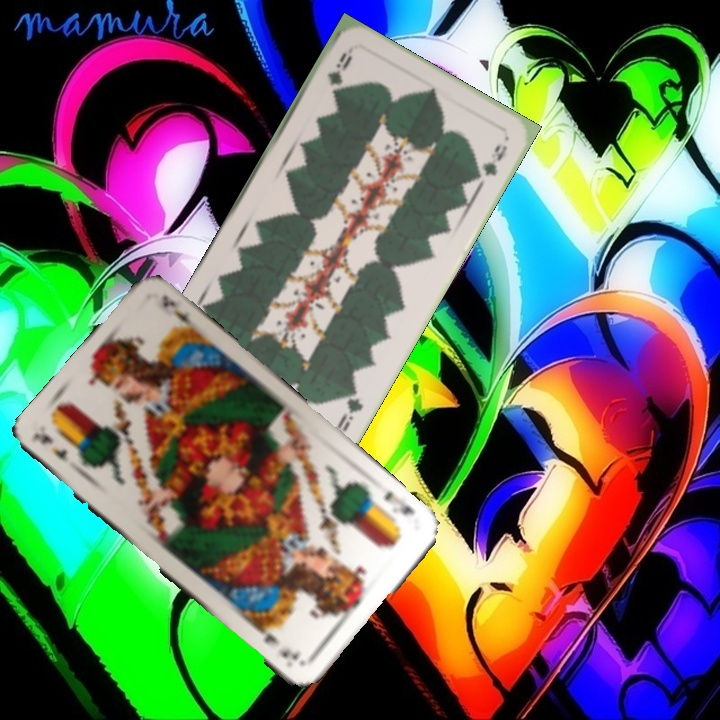EK: (31, 429, 72, 463), (379, 486, 417, 518)
G9: (332, 383, 366, 435), (323, 48, 355, 89)
